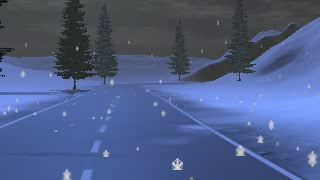Lane: (1, 82, 302, 179)
